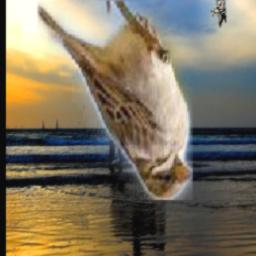Sparrow: (39, 2, 194, 201)
Woodpecker: (211, 0, 226, 27)
